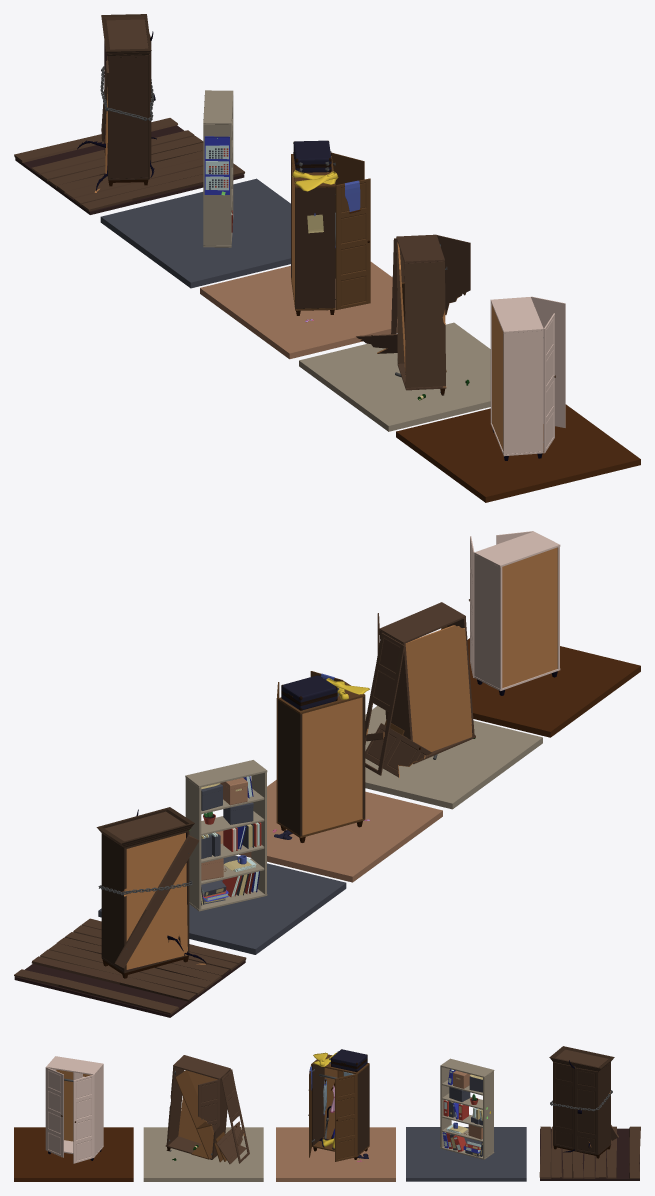
File: shelf.fbx
3 renders of one model, top to bottom at view 1: azimuth 30°, elevation 25°; view 2: azimuth 150°, elevation 25°; view 3: azimuth 270°, elevation 25°, orthographic. The views are drawn at different scales.
Visible parts, largest first — view 1: пол, пол.003, пол.002, пол.001, ПОЛ.004, бока коробки, бока коробки.003, бока коробки.007, бока коробки.005, Дверь правая.003, бока коробки.006, Дверь левая (+11 smaller); view 2: пол.001, пол.003, ПОЛ.004, пол.002, Задняя стенка.003, пол, Задняя стенка.002, Задняя стенка, Задняя стенка.005, бока коробки, бока коробки.005, бока коробки.007 (+14 smaller); view 3: пол, пол.001, пол.003, пол.002, ПОЛ.004, Дверь правая.005, бока коробки.005, Дверь левая.001, Дверь левая, Дверь правая.004, Дверь правая, бока коробки.006 (+24 smaller).
Boxes of the visible parts, <box> form: пол: <box>100,178,290,288</box>; пол.003: <box>396,404,640,502</box>; пол.002: <box>299,322,490,431</box>; пол.001: <box>200,262,397,359</box>; ПОЛ.004: <box>14,118,244,211</box>; бока коробки: <box>490,302,543,454</box>; бока коробки.003: <box>404,261,447,387</box>; бока коробки.007: <box>104,41,148,178</box>; бока коробки.005: <box>291,157,335,308</box>; Дверь правая.003: <box>336,178,370,309</box>; бока коробки.006: <box>203,97,233,245</box>; Дверь левая: <box>531,296,565,427</box>; пол.001: <box>215,780,442,882</box>; пол.003: <box>467,638,640,737</box>; ПОЛ.004: <box>14,918,246,1014</box>; пол.002: <box>365,706,542,809</box>; Задняя стенка.003: <box>302,697,362,835</box>; пол: <box>98,855,346,954</box>; Задняя стенка.002: <box>405,625,472,751</box>; Задняя стенка: <box>502,547,557,688</box>; Задняя стенка.005: <box>126,833,187,969</box>; бока коробки: <box>474,546,559,689</box>; бока коробки.005: <box>278,696,365,836</box>; бока коробки.007: <box>102,832,189,971</box>; пол: <box>406,1127,526,1181</box>; пол.001: <box>276,1127,395,1181</box>; пол.003: <box>14,1127,133,1181</box>; пол.002: <box>143,1127,263,1181</box>; ПОЛ.004: <box>539,1126,640,1178</box>; Дверь правая.005: <box>574,1067,598,1154</box>; бока коробки.005: <box>312,1065,369,1154</box>; Дверь левая.001: <box>335,1073,357,1161</box>; Дверь левая: <box>73,1074,94,1163</box>; Дверь правая.004: <box>553,1062,575,1149</box>; Дверь правая: <box>45,1067,63,1157</box>; бока коробки.006: <box>440,1066,493,1158</box>.
Size of the model in its own units: 567 by 515 by 2912.
